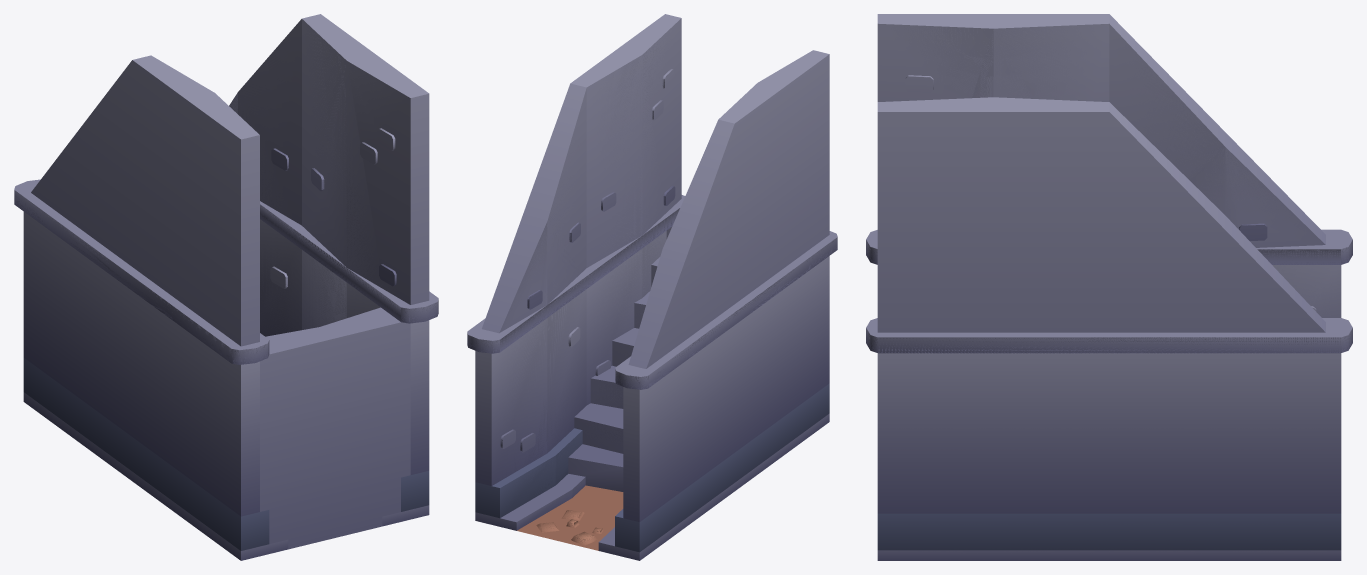
Rendered from stairs.glb.
The picture shows the model from 3 angles, left to right: view 1: azimuth 30°, elevation 25°; view 2: azimuth 150°, elevation 25°; view 3: azimuth 270°, elevation 25°; orthographic projection. The views are drawn at different scales.
Parts seen in each view (by area): view 1: stairs; view 2: stairs; view 3: stairs.
Part boxes in pixels (x1,y1,x2,y2): stairs: (14, 14, 438, 560); stairs: (467, 14, 837, 560); stairs: (866, 14, 1352, 560).
Size of what is drawn, in the model's own units: 4.4 by 8.55 by 8.4.
Materials: 1 (1 with a texture image).
